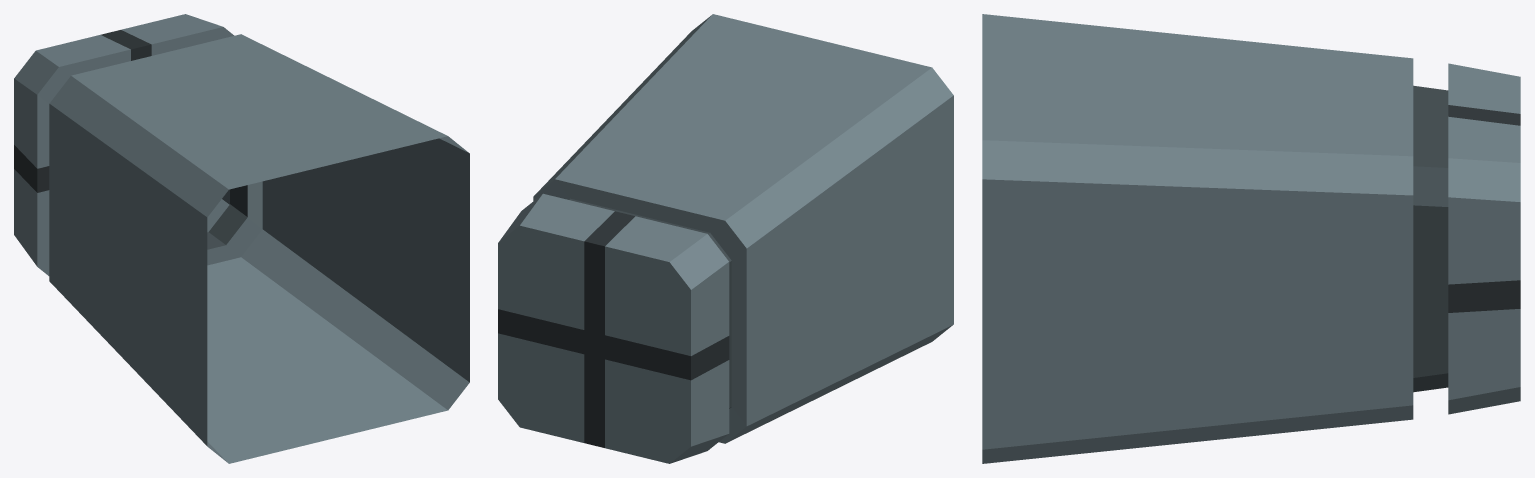
Rendered from Block 01.FBX.
The picture shows the model from 3 angles, left to right: view 1: azimuth 30°, elevation 25°; view 2: azimuth 150°, elevation 25°; view 3: azimuth 270°, elevation 25°; orthographic projection. The views are drawn at different scales.
Visible parts, largest first — view 1: Block 01; view 2: Block 01; view 3: Block 01.
Boxes of the visible parts, x1,y1,x2,y2 form: Block 01: [14, 14, 469, 463]; Block 01: [498, 14, 953, 463]; Block 01: [982, 14, 1520, 463].
Size of the model in its own units: 51.37 by 77.31 by 51.33.
